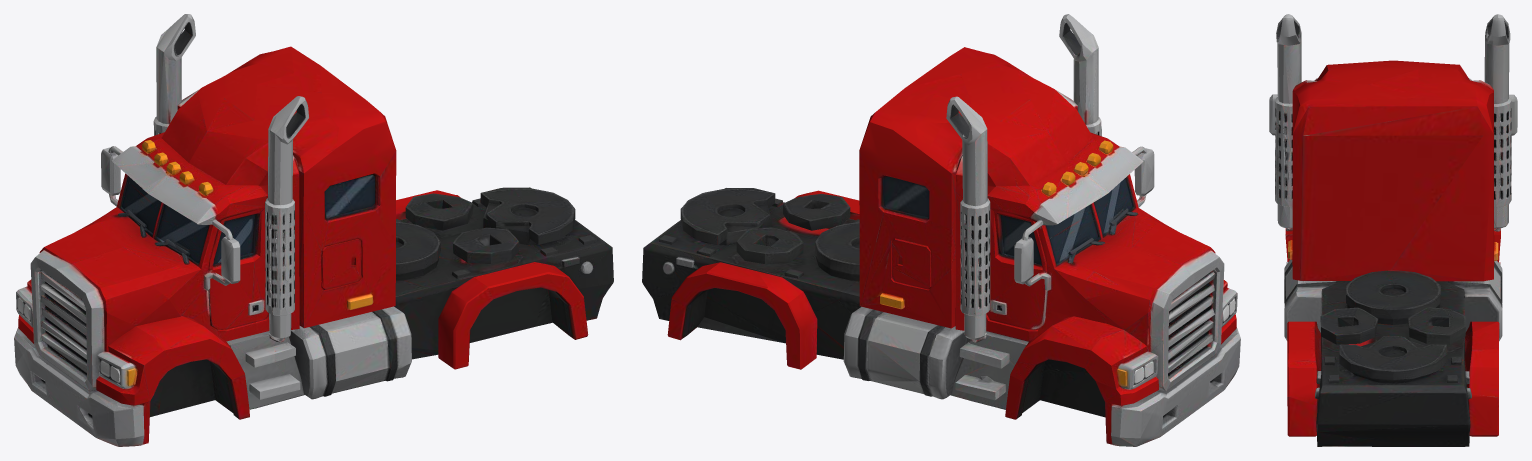
Rendered from trailer.glb.
3 views of the same model, side by side, from view 1: azimuth 30°, elevation 25°; view 2: azimuth 150°, elevation 25°; view 3: azimuth 270°, elevation 25° (orthographic). The views are drawn at different scales.
Size of the model in its own units: 1.9 by 1.12 by 0.8526.
Materials: 1 (1 with a texture image).
